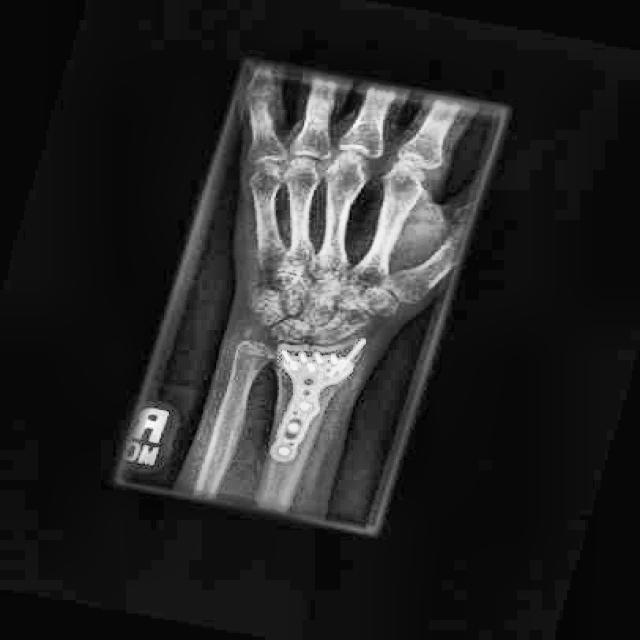wrist positive: (313, 378, 349, 414), (359, 296, 404, 322)
